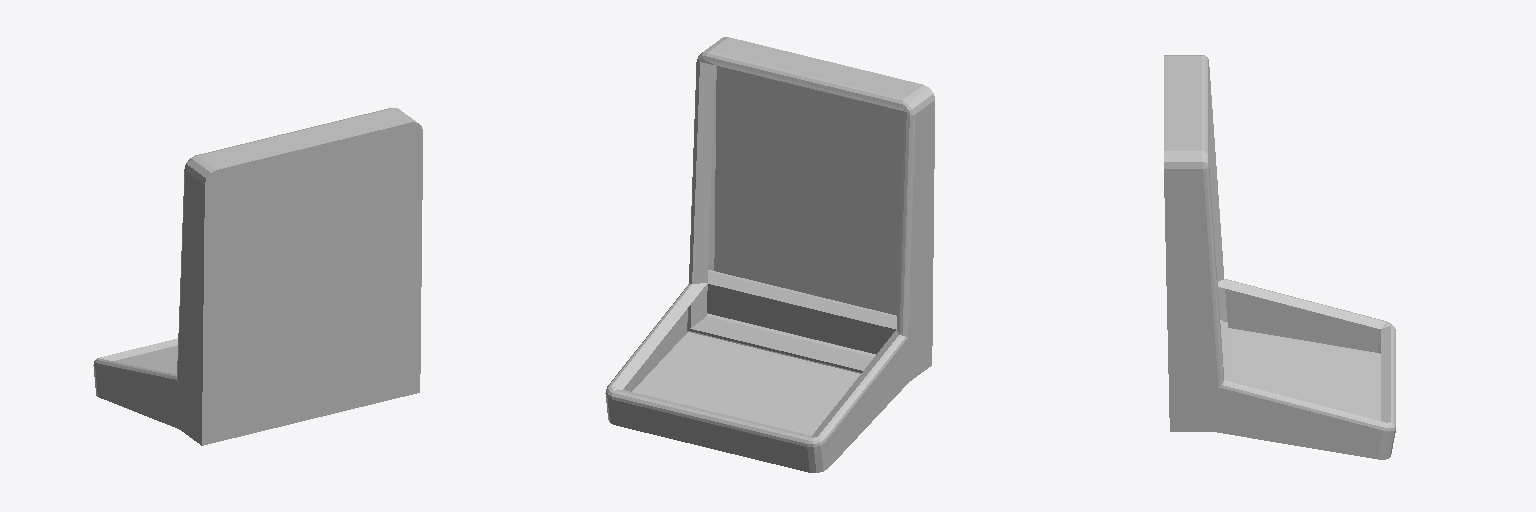
Rendered from stapler_sitz.obj.
3 renders of one model, left to right at view 1: azimuth 30°, elevation 25°; view 2: azimuth 150°, elevation 25°; view 3: azimuth 270°, elevation 25°, orthographic.
Visible parts, largest first — view 1: Sitz_Cube.4; view 2: Sitz_Cube.4; view 3: Sitz_Cube.4.
Boxes of the visible parts, <box> form: Sitz_Cube.4: <box>93,108,422,445</box>; Sitz_Cube.4: <box>605,37,934,472</box>; Sitz_Cube.4: <box>1164,55,1395,459</box>.
Bounding box in the file's own units: 3.22 × 4.3 × 2.97.